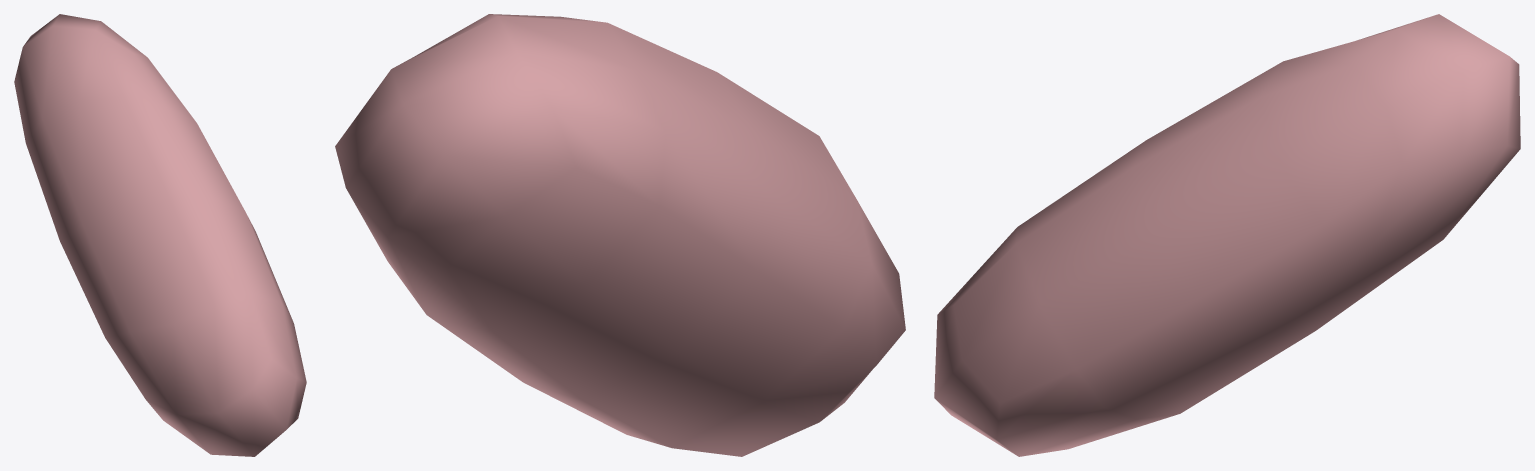
3 views of the same model, side by side, from view 1: azimuth 30°, elevation 25°; view 2: azimuth 150°, elevation 25°; view 3: azimuth 270°, elevation 25° (orthographic). The views are drawn at different scales.
Parts seen in each view (by area): view 1: ZA_f6742d48a90645a1; view 2: ZA_f6742d48a90645a1; view 3: ZA_f6742d48a90645a1.
Part boxes in pixels (x1,y1,x2,y2): ZA_f6742d48a90645a1: [14, 14, 306, 456]; ZA_f6742d48a90645a1: [335, 14, 905, 456]; ZA_f6742d48a90645a1: [934, 14, 1520, 456].
Bounding box in the file's own units: 0.00166 × 0.00298 × 0.00377.
